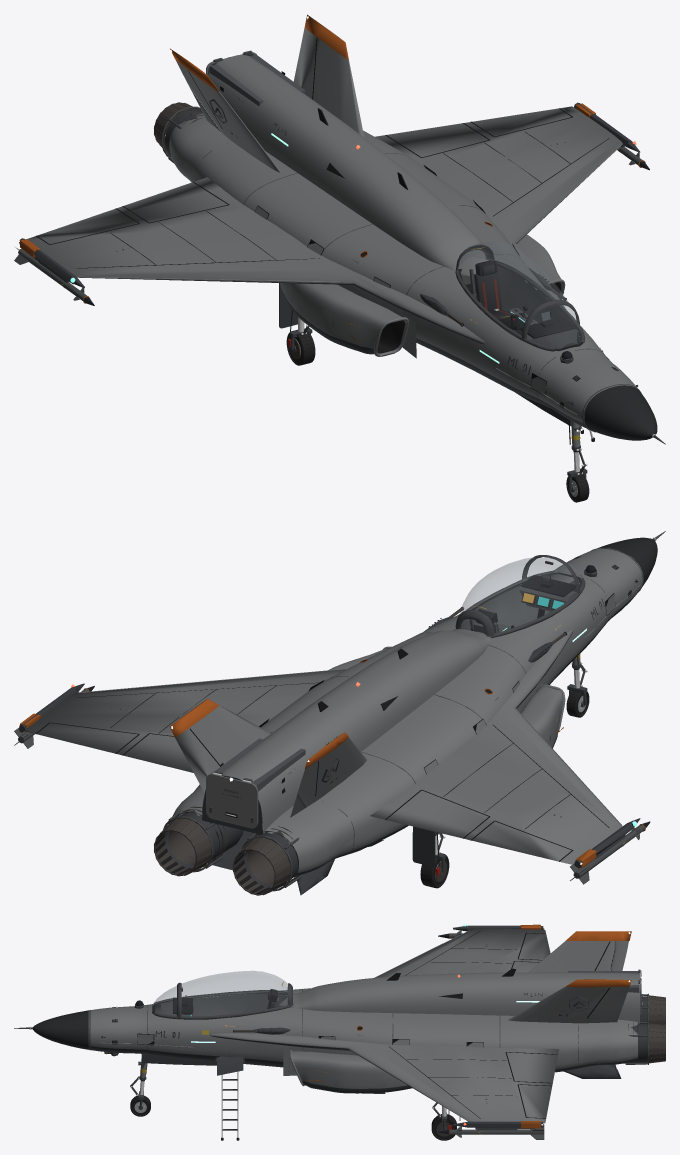
The model's file is MilanFern.e0b08c50ef.glb.
3 views of the same model, one above another, from view 1: azimuth 30°, elevation 25°; view 2: azimuth 150°, elevation 25°; view 3: azimuth 270°, elevation 25° (orthographic). The views are drawn at different scales.
Parts seen in each view (by area): view 1: Einlaufschaufel links.001, HUD-Scheibe.001, Rumpf.004, Absaugloch.040, Hauptfuge.005, Bauchflosse links.001, Holmfuge.004, Cockpitwanne.001, Abstandshalter.006, Einlauflippe.002, Seitenleitwerk links.001, Kopfpolster.001 (+5 smaller); view 2: Einlaufschaufel links.001, HUD-Scheibe.001, Brennkammer.002, Abstandshalter.006, Klappe.013, Absaugloch.040, Hauptfuge.005, Holmfuge.004, Bauchflosse links.001, Cockpitwanne.001, Rumpf.004, Seitenleitwerk links.001 (+6 smaller); view 3: Einlaufschaufel links.001, HUD-Scheibe.001, Bauchflosse links.001, Abstandshalter.006, Cockpitwanne.001, Rumpf.004, Hauptfuge.005, Brennkammer.002, Holmfuge.004, Seitenleitwerk links.001, Absaugloch.040, Canard.008 (+6 smaller).
Part boxes in pixels (x1=…): Einlaufschaufel links.001: x1=27, y1=28, x2=637, y2=424; HUD-Scheibe.001: x1=458, y1=241, x2=582, y2=348; Rumpf.004: x1=584, y1=385, x2=657, y2=440; Absaugloch.040: x1=165, y1=71, x2=637, y2=408; Hauptfuge.005: x1=196, y1=143, x2=640, y2=431; Bauchflosse links.001: x1=79, y1=161, x2=604, y2=431; Holmfuge.004: x1=36, y1=38, x2=609, y2=395; Cockpitwanne.001: x1=461, y1=265, x2=579, y2=348; Abstandshalter.006: x1=19, y1=54, x2=640, y2=432; Einlauflippe.002: x1=79, y1=144, x2=621, y2=414; Seitenleitwerk links.001: x1=170, y1=14, x2=348, y2=91; Kopfpolster.001: x1=475, y1=264, x2=513, y2=320; Einlaufschaufel links.001: x1=24, y1=548, x2=643, y2=873; HUD-Scheibe.001: x1=460, y1=557, x2=581, y2=634; Brennkammer.002: x1=154, y1=556, x2=631, y2=895; Abstandshalter.006: x1=19, y1=571, x2=640, y2=887; Klappe.013: x1=206, y1=773, x2=258, y2=828; Absaugloch.040: x1=155, y1=556, x2=637, y2=893; Hauptfuge.005: x1=270, y1=548, x2=643, y2=854; Holmfuge.004: x1=36, y1=593, x2=615, y2=861; Bauchflosse links.001: x1=187, y1=578, x2=640, y2=895; Cockpitwanne.001: x1=461, y1=586, x2=576, y2=630; Rumpf.004: x1=594, y1=537, x2=657, y2=586; Seitenleitwerk links.001: x1=170, y1=699, x2=348, y2=768; Einlaufschaufel links.001: x1=88, y1=928, x2=639, y2=1123; HUD-Scheibe.001: x1=153, y1=971, x2=294, y2=1015; Bauchflosse links.001: x1=88, y1=1035, x2=637, y2=1093; Abstandshalter.006: x1=110, y1=925, x2=647, y2=1127; Cockpitwanne.001: x1=161, y1=993, x2=287, y2=1016; Rumpf.004: x1=32, y1=1010, x2=88, y2=1049; Hauptfuge.005: x1=89, y1=982, x2=578, y2=1068; Brennkammer.002: x1=104, y1=995, x2=665, y2=1063; Holmfuge.004: x1=137, y1=931, x2=610, y2=1118; Seitenleitwerk links.001: x1=565, y1=931, x2=631, y2=987; Absaugloch.040: x1=103, y1=968, x2=516, y2=1070; Canard.008: x1=449, y1=928, x2=544, y2=1139.
Size of the model in its own units: 11.55 by 4.28 by 15.82.
